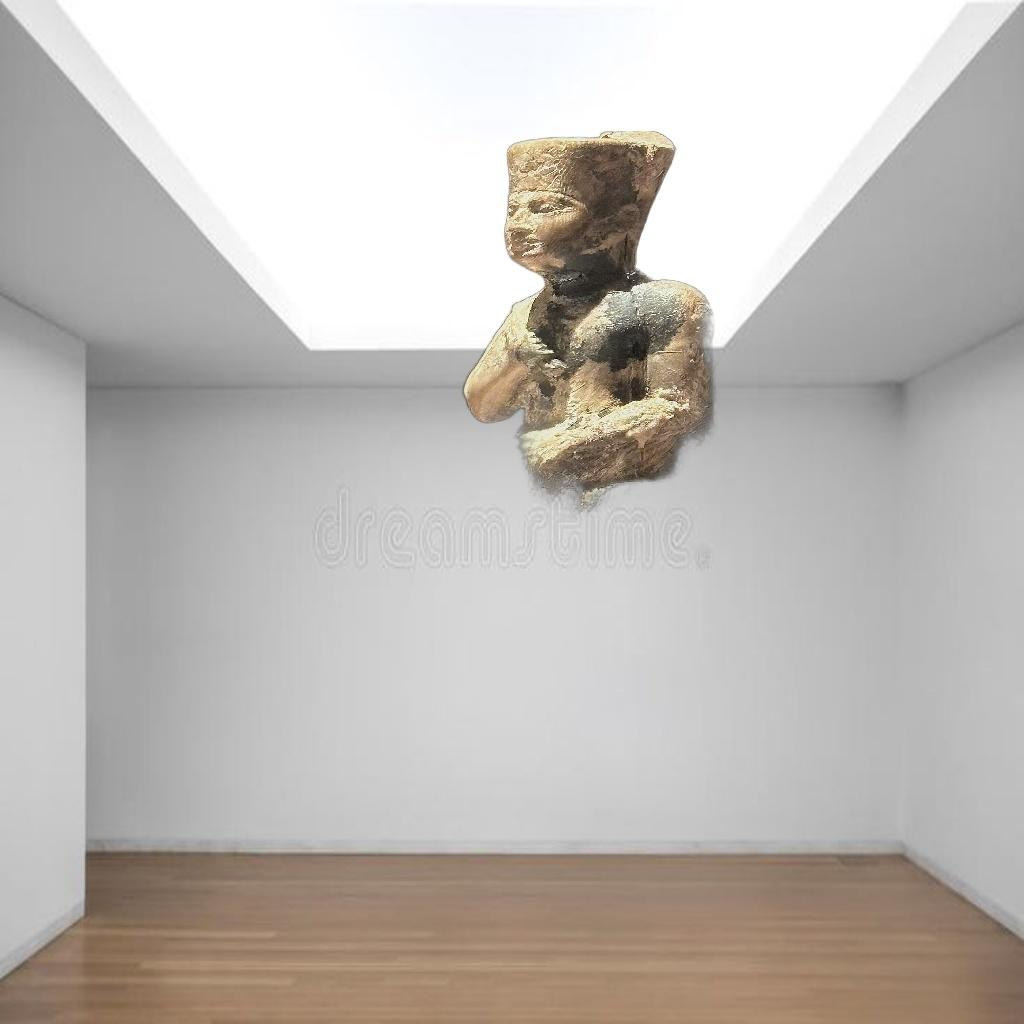Statue of Khufu: (420, 131, 772, 688)
